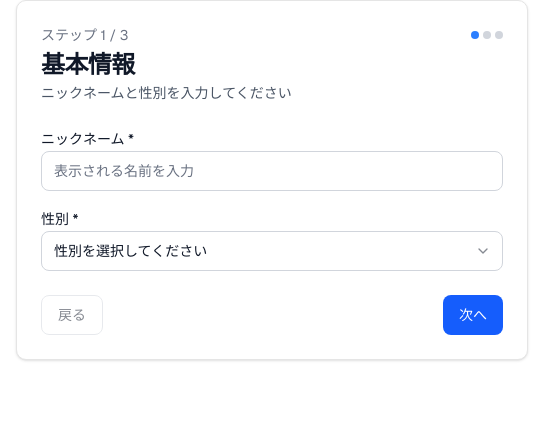
Scenario: ProfileRegistrationForm › Stage 1 - 基本情報 › 必須フィールドが空の場合にエラーメッセージが表示される
This screenshot has width=545, height=434.
Click the button "次へ" at point(473, 315), box [443,295,503,335]
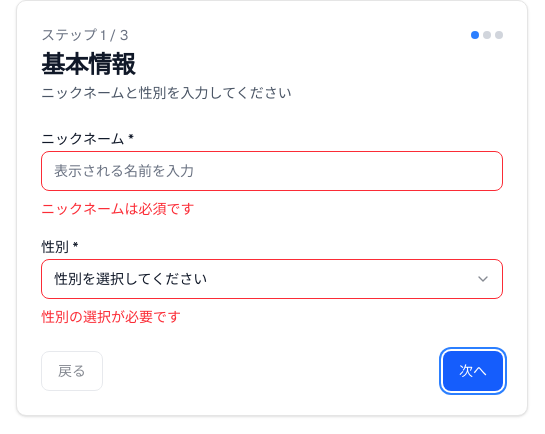
expect the text "ニックネームは必須です" is shown: met, box [41,200,195,218]
expect the text "性別の選択が必要です" is shown: met, box [41,308,181,326]
